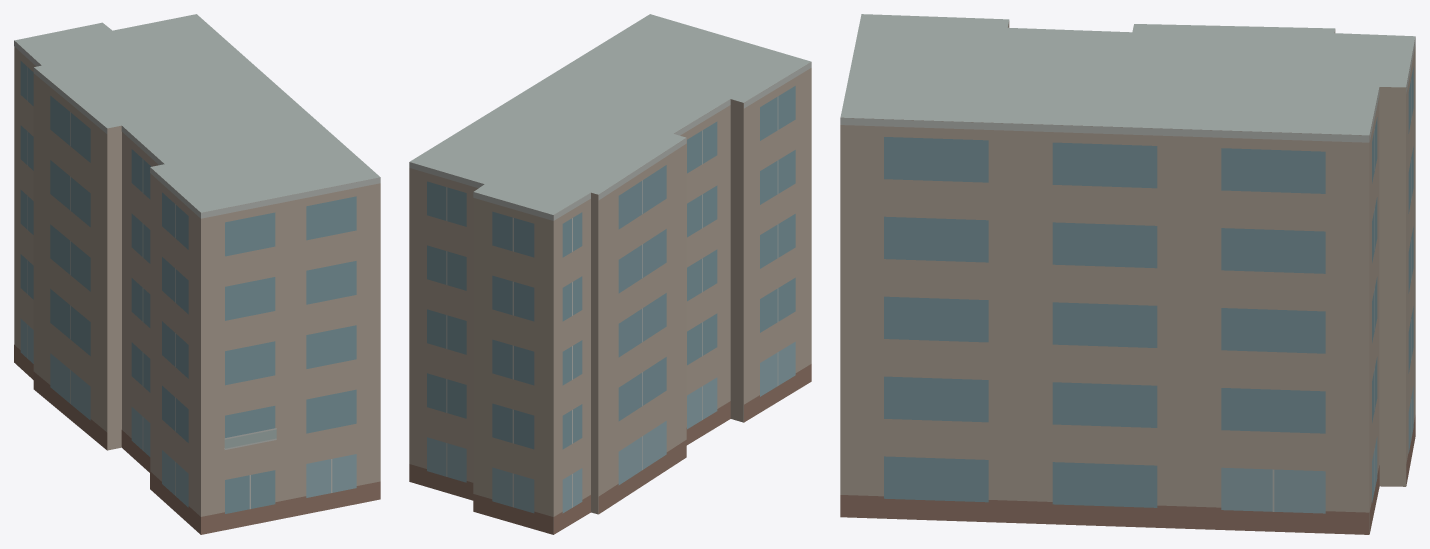
File: survey-upis-32523531.glb
3 renders of one model, left to right at view 1: azimuth 30°, elevation 25°; view 2: azimuth 150°, elevation 25°; view 3: azimuth 270°, elevation 25°, orthographic. The views are drawn at different scales.
Parts seen in each view (by area): view 1: survey-upis-32523531.tmp; view 2: survey-upis-32523531.tmp; view 3: survey-upis-32523531.tmp.
Boxes of the visible parts, x1,y1,x2,y2 form: survey-upis-32523531.tmp: (14, 14, 380, 534); survey-upis-32523531.tmp: (409, 14, 811, 534); survey-upis-32523531.tmp: (840, 14, 1415, 534).
Size of the model in its own units: 8.64 by 13.25 by 17.3.
